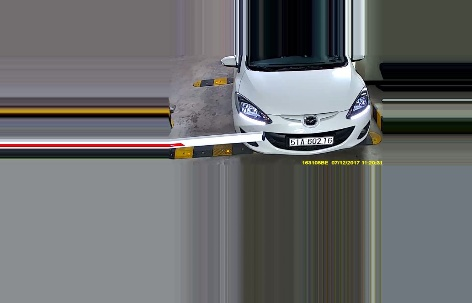plate: (284, 135, 333, 147)
